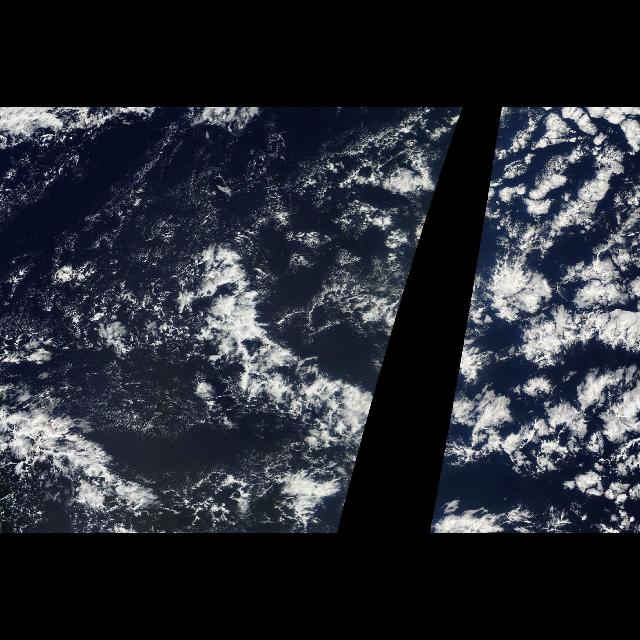Flower: (432, 129, 640, 516), (326, 129, 458, 516)
